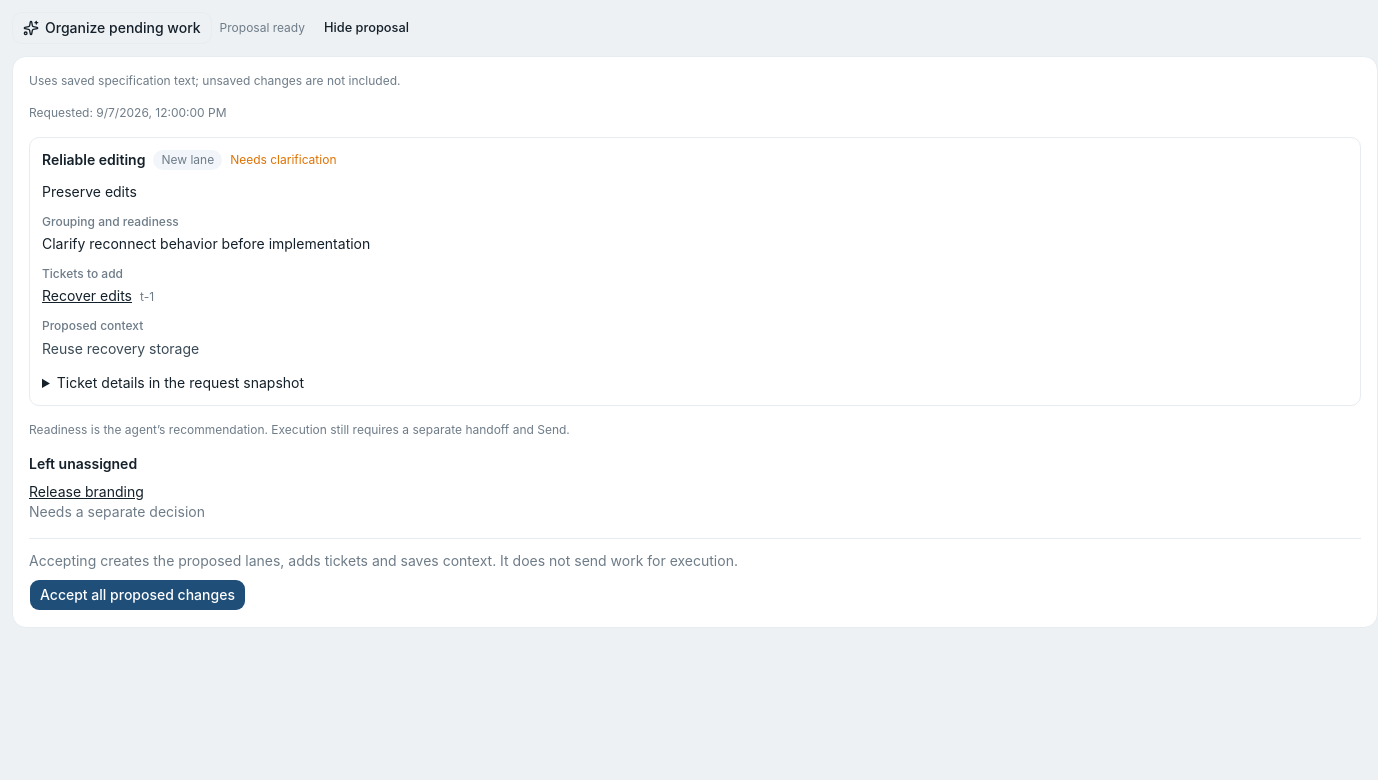
Lane organizer › shows frozen ticket context, readiness and unassigned work before explicit acceptance
expect the heading "Reliable editing" is shown: met, box top-left (42, 150), bottom-right (145, 170)
expect the text "Needs clarification" is shown: met, box top-left (230, 152), bottom-right (336, 168)
Click the button "Accept all proposed changes" at (137, 595), box top-left (29, 579), bottom-right (246, 611)
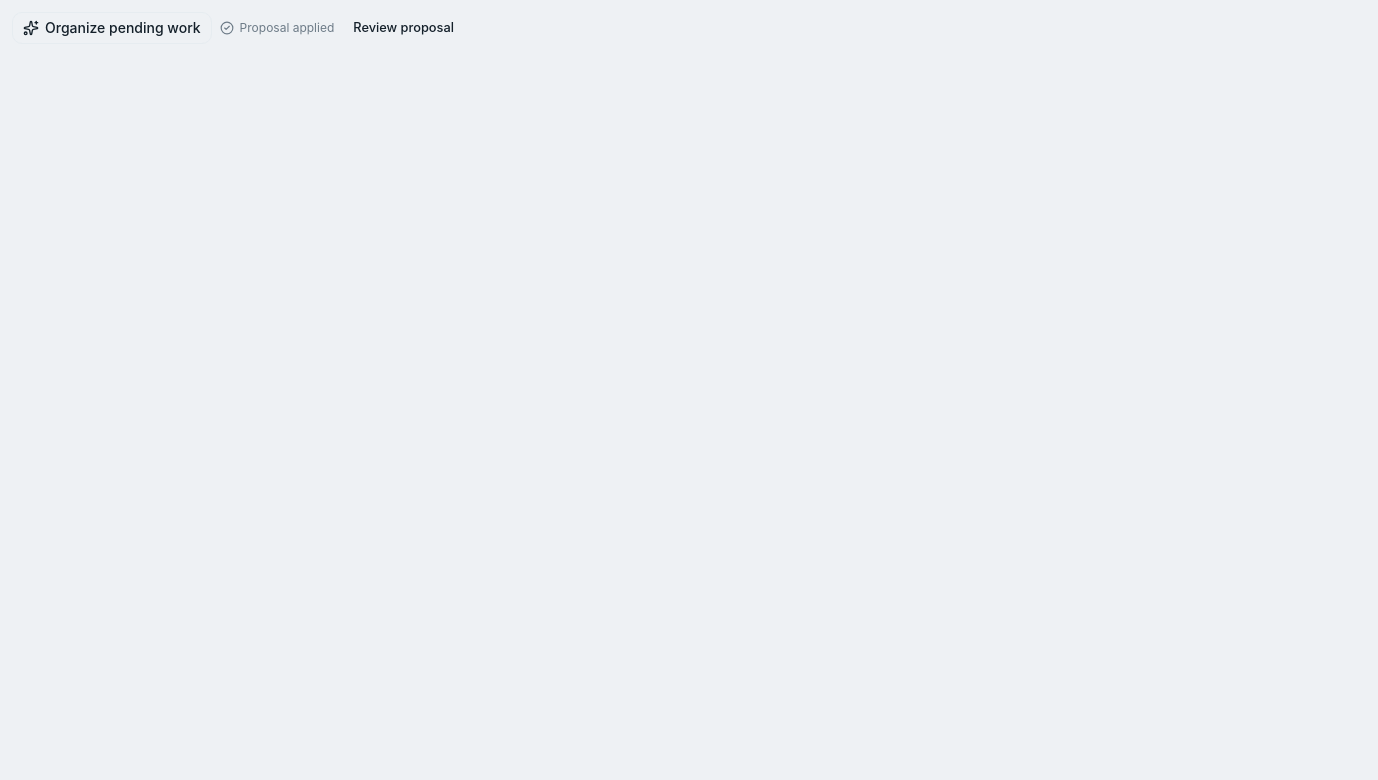
expect the text "Proposal applied" is shown: met, box top-left (220, 20), bottom-right (334, 36)
